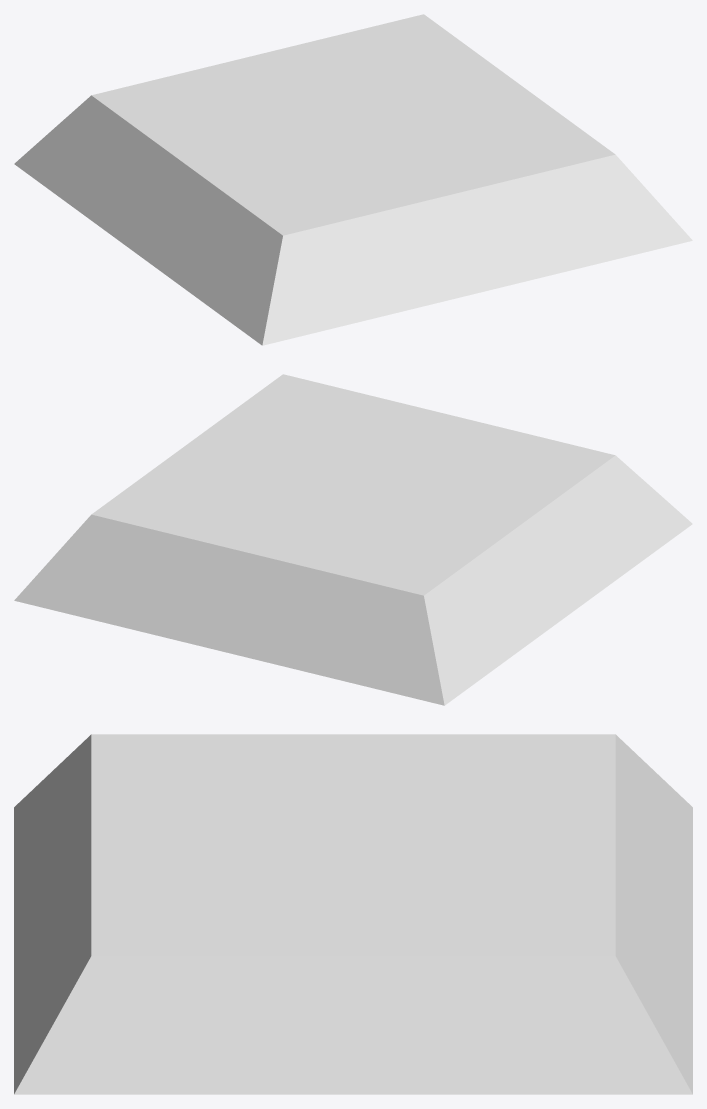
Rendered from Itr_Obj_Monitor_CRT_Base_04.FBX.
The picture shows the model from 3 angles, top to bottom: view 1: azimuth 30°, elevation 25°; view 2: azimuth 150°, elevation 25°; view 3: azimuth 270°, elevation 25°; orthographic projection. The views are drawn at different scales.
Visible parts, largest first — view 1: Itr_Obj_Monitor_CRT_Base_04; view 2: Itr_Obj_Monitor_CRT_Base_04; view 3: Itr_Obj_Monitor_CRT_Base_04.
Boxes of the visible parts, bbox=[...] form: Itr_Obj_Monitor_CRT_Base_04: bbox=[14, 14, 692, 345]; Itr_Obj_Monitor_CRT_Base_04: bbox=[14, 374, 692, 705]; Itr_Obj_Monitor_CRT_Base_04: bbox=[14, 734, 692, 1094].
Bounding box in the file's own units: 12.64 × 2.17 × 12.62.
